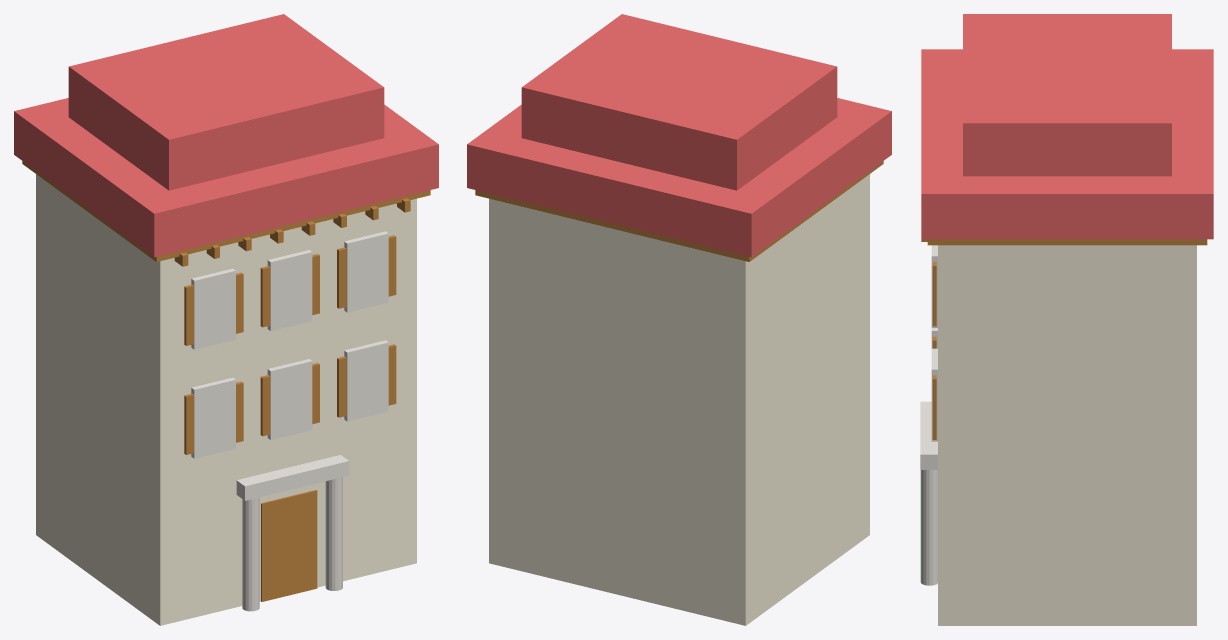
File: city_building_03.glb
3 renders of one model, left to right at view 1: azimuth 30°, elevation 25°; view 2: azimuth 150°, elevation 25°; view 3: azimuth 270°, elevation 25°, orthographic. The views are drawn at different scales.
Parts seen in each view (by area): view 1: B03_MainBody, B03_RoofRidge, B03_RoofHipped, B03_MainDoor, B03_ArchWin_0_0.0, B03_ArchWin_1_0.0, B03_ArchWin_1_2.2, B03_ArchWin_0_2.2, B03_ArchWin_0_-2.2, B03_ArchWin_1_-2.2, B03_EntranceArch, B03_EntranceCol_L (+8 smaller); view 2: B03_MainBody, B03_RoofRidge, B03_RoofHipped, B03_EavesBeam; view 3: B03_MainBody, B03_RoofRidge, B03_RoofHipped, B03_EntranceCol_R, B03_EavesBeam, B03_EntranceArch, B03_ArchWin_0_2.2.
Part boxes in pixels (x1=…): B03_MainBody: x1=36, y1=174, x2=416, y2=625; B03_RoofRidge: x1=68, y1=14, x2=384, y2=190; B03_RoofHipped: x1=14, y1=98, x2=438, y2=257; B03_MainDoor: x1=261, y1=490, x2=317, y2=601; B03_ArchWin_0_0.0: x1=267, y1=359, x2=312, y2=439; B03_ArchWin_1_0.0: x1=267, y1=250, x2=312, y2=330; B03_ArchWin_1_2.2: x1=344, y1=231, x2=388, y2=312; B03_ArchWin_0_2.2: x1=344, y1=340, x2=388, y2=421; B03_ArchWin_0_-2.2: x1=191, y1=377, x2=235, y2=458; B03_ArchWin_1_-2.2: x1=191, y1=268, x2=235, y2=349; B03_EntranceArch: x1=236, y1=455, x2=349, y2=500; B03_EntranceCol_L: x1=242, y1=497, x2=259, y2=611; B03_MainBody: x1=489, y1=174, x2=869, y2=625; B03_RoofRidge: x1=521, y1=14, x2=837, y2=190; B03_RoofHipped: x1=467, y1=98, x2=891, y2=257; B03_EavesBeam: x1=475, y1=161, x2=883, y2=261; B03_MainBody: x1=938, y1=245, x2=1196, y2=625; B03_RoofRidge: x1=963, y1=14, x2=1171, y2=176; B03_RoofHipped: x1=921, y1=49, x2=1213, y2=239; B03_EntranceCol_R: x1=920, y1=470, x2=937, y2=585; B03_EavesBeam: x1=927, y1=239, x2=1207, y2=245; B03_EntranceArch: x1=920, y1=401, x2=937, y2=469; B03_ArchWin_0_2.2: x1=931, y1=348, x2=937, y2=441.
Bounding box in the file's own units: 8.2 × 13 × 7.02.
